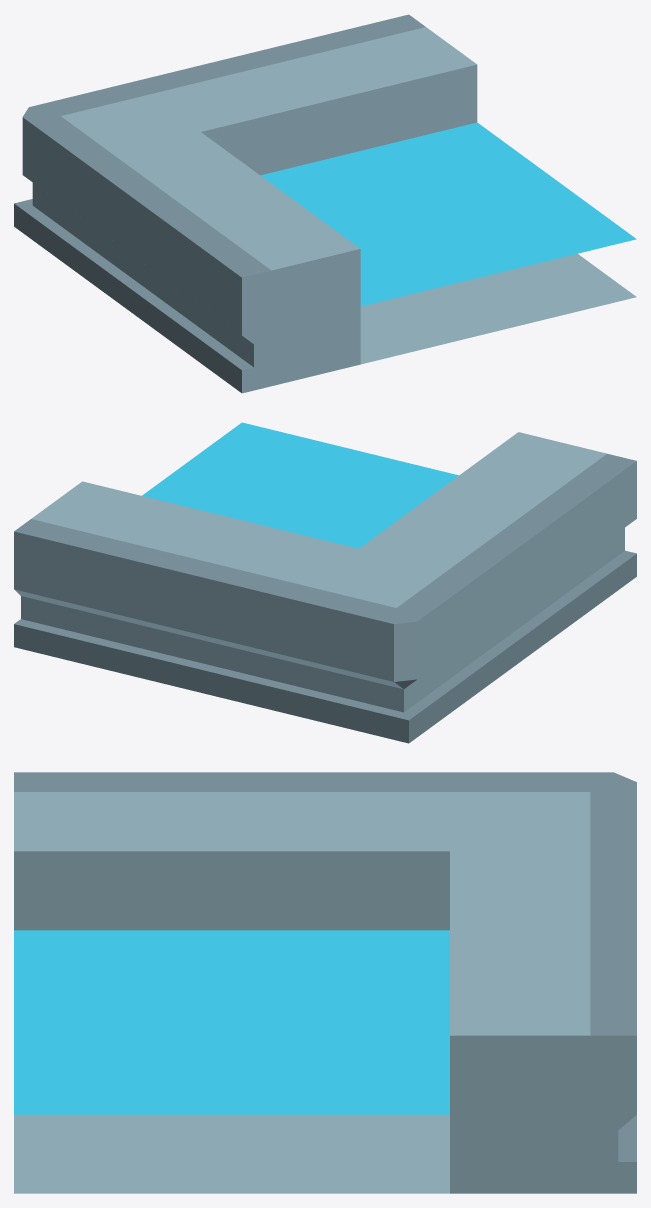
File: fountainCorner.obj
3 renders of one model, top to bottom at view 1: azimuth 30°, elevation 25°; view 2: azimuth 150°, elevation 25°; view 3: azimuth 270°, elevation 25°, orthographic. The views are drawn at different scales.
Visible parts, largest first — view 1: fountainCorner; view 2: fountainCorner; view 3: fountainCorner.
Part boxes in pixels (box(x1,y1,x2,y2)): fountainCorner: box(14, 14, 636, 393); fountainCorner: box(14, 422, 636, 743); fountainCorner: box(14, 772, 636, 1193).
Bounding box in the file's own units: 1 × 0.28 × 1.
